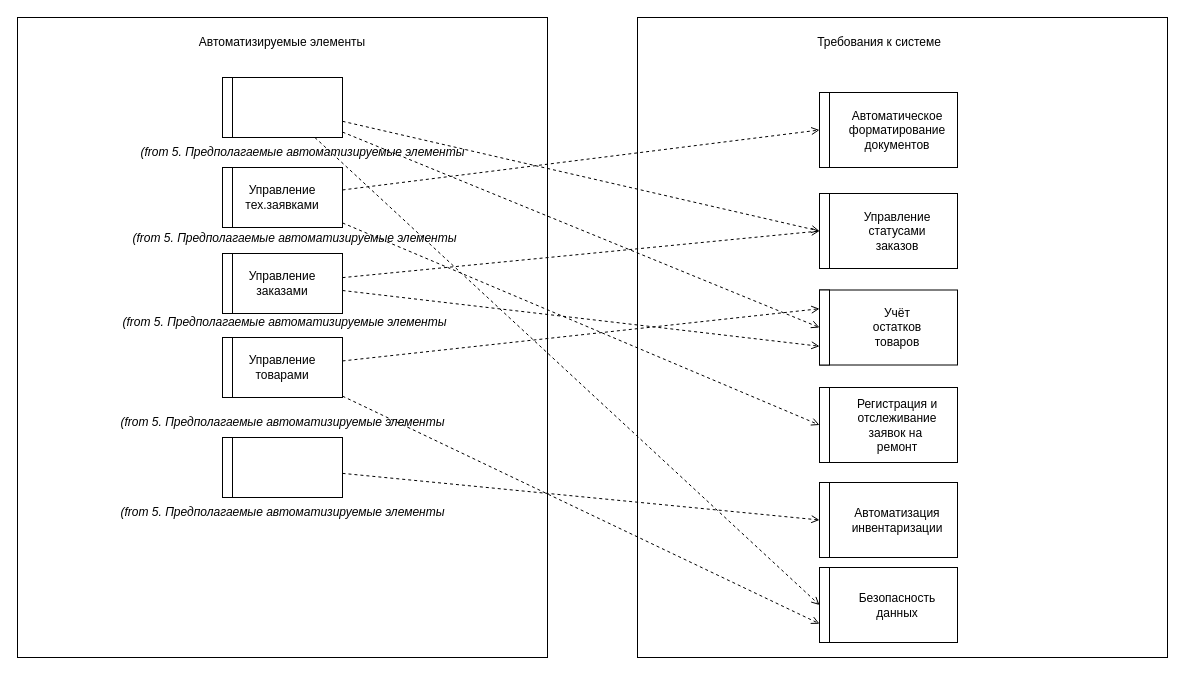
Image size: 1185x675. Some labels were removed from this diagram. The box of each missing label's shape, as (x1, y1, x2, y2) in pixels:
Обработка заказа: (222, 76, 342, 138)
Управление складом: (222, 436, 342, 498)
